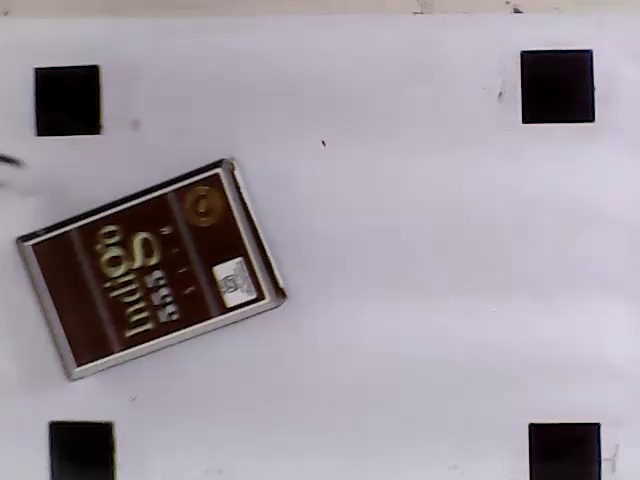BEX: (28, 171, 270, 371)
